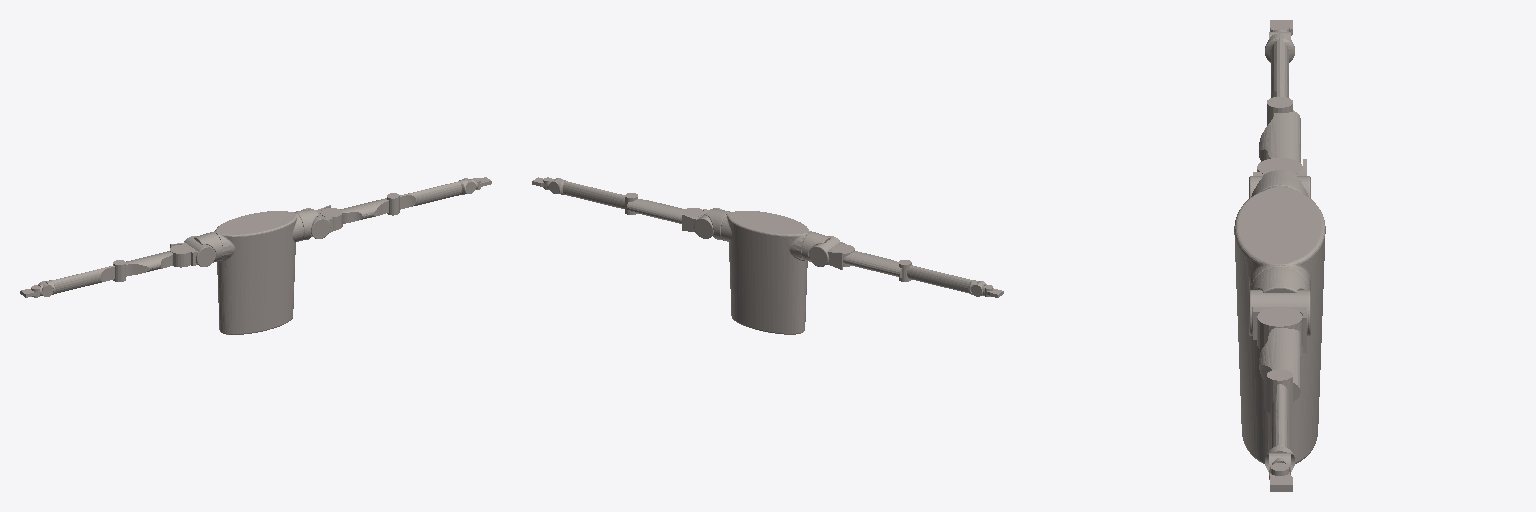
URDF robot description (lita_converted):
<!--This file is generated from solidworks via SW2URDF plugin and is later modified.
This file can be directly used for gazebo.-->


<robot name="lita_converted" xmlns:xacro="http://www.ros.org/wiki/xacro">

  <!--fix the upper_body_link-->
  <link name="world"/>

  <joint name="fixed" type="fixed">
    <parent link="world"/>
    <child link="upper_body_link"/>
  </joint>

  <!--This is the robot describtion-->
  <link name="upper_body_link">
    <inertial>
      <origin
        xyz="-4.3975E-06 -1.1609E-08 0.15913"
        rpy="0 0 0" />
      <mass
        value="26.766" />
      <inertia
        ixx="10"
        ixy="10"
        ixz="10"
        iyy="10"
        iyz="10"
        izz="10" />
    </inertial>
    <visual>
      <origin
        xyz="0 0 0"
        rpy="0 0 0" />
      <geometry>
        <mesh
          filename="package://lita_converted/meshes/upper_body_link.STL" />
      </geometry>
      <material
        name="">
        <color
          rgba="0.68627 0.65882 0.63922 1" />
      </material>
    </visual>
    <collision>
      <origin
        xyz="0 0 0"
        rpy="0 0 0" />
      <geometry>
        <mesh
          filename="package://lita_converted/meshes/upper_body_link.STL" />
      </geometry>
    </collision>
  </link>
  <link
    name="l_shoulder_roll_link">
    <inertial>
      <origin
        xyz="0.0033683 -7.6367E-09 -0.015946"
        rpy="0 0 0" />
      <mass
        value="0.63417" />
      <inertia
        ixx="0.000315"
        ixy="0"
        ixz="-5.2E-05"
        iyy="0.000373"
        iyz="0"
        izz="0.000525" />
    </inertial>
    <visual>
      <origin
        xyz="0 0 0"
        rpy="0 0 0" />
      <geometry>
        <mesh
          filename="package://lita_converted/meshes/l_shoulder_roll_link.STL" />
      </geometry>
      <material
        name="">
        <color
          rgba="0.68627 0.65882 0.63922 1" />
      </material>
    </visual>
    <collision>
      <origin
        xyz="0 0 0"
        rpy="0 0 0" />
      <geometry>
        <mesh
          filename="package://lita_converted/meshes/l_shoulder_roll_link.STL" />
      </geometry>
    </collision>
  </link>
  <joint
    name="l_shoulder_roll"
    type="continuous">
    <origin
      xyz="0.125 0 0.26"
      rpy="0 -1.5708 0" />
    <parent
      link="upper_body_link" />
    <child
      link="l_shoulder_roll_link" />
    <axis
      xyz="0 0 -1" />
    <limit
      effort="50000"
      velocity="500" />
    <calibration
      rising="1" />
    <dynamics
      damping="1"
      friction="0.1" />
    <safety_controller
      k_velocity="1" />
  </joint>
  <link
    name="l_shoulder_pitch_link">
    <inertial>
      <origin
        xyz="0.0032993 5.9585E-10 -0.00098089"
        rpy="0 0 0" />
      <mass
        value="1.0724" />
      <inertia
        ixx="0.000841"
        ixy="0"
        ixz="-5.4E-05"
        iyy="0.000973"
        iyz="0"
        izz="0.000606" />
    </inertial>
    <visual>
      <origin
        xyz="0 0 0"
        rpy="0 0 0" />
      <geometry>
        <mesh
          filename="package://lita_converted/meshes/l_shoulder_pitch_link.STL" />
      </geometry>
      <material
        name="">
        <color
          rgba="0.68627 0.65882 0.63922 1" />
      </material>
    </visual>
    <collision>
      <origin
        xyz="0 0 0"
        rpy="0 0 0" />
      <geometry>
        <mesh
          filename="package://lita_converted/meshes/l_shoulder_pitch_link.STL" />
      </geometry>
    </collision>
  </link>
  <joint
    name="l_shoulder_pitch"
    type="revolute">
    <origin
      xyz="-0.0037133 0 -0.052049"
      rpy="1.5708 1.5708 0" />
    <parent
      link="l_shoulder_roll_link" />
    <child
      link="l_shoulder_pitch_link" />
    <axis
      xyz="0 0 -1" />
    <limit
      lower="-0.6981"
      upper="1.7104"
      effort="50000"
      velocity="500" />
    <calibration
      rising="1" />
    <dynamics
      damping="0.1"
      friction="0.1" />
    <safety_controller
      soft_upper="1.7"
      soft_lower="-0.69"
      k_position="1"
      k_velocity="1" />
  </joint>
  <link
    name="l_shoulder_yaw_link">
    <inertial>
      <origin
        xyz="0.065121 -0.0020967 1.7569E-07"
        rpy="0 0 0" />
      <mass
        value="1.3826" />
      <inertia
        ixx="0.000398"
        ixy="-0.000132"
        ixz="0"
        iyy="0.005026"
        iyz="0"
        izz="0.005143" />
    </inertial>
    <visual>
      <origin
        xyz="0 0 0"
        rpy="0 0 0" />
      <geometry>
        <mesh
          filename="package://lita_converted/meshes/l_shoulder_yaw_link.STL" />
      </geometry>
      <material
        name="">
        <color
          rgba="0.68627 0.65882 0.63922 1" />
      </material>
    </visual>
    <collision>
      <origin
        xyz="0 0 0"
        rpy="0 0 0" />
      <geometry>
        <mesh
          filename="package://lita_converted/meshes/l_shoulder_yaw_link.STL" />
      </geometry>
    </collision>
  </link>
  <joint
    name="l_shoulder_yaw"
    type="revolute">
    <origin
      xyz="0.055 0 0"
      rpy="1.5708 -4.1633E-17 -2.6021E-18" />
    <parent
      link="l_shoulder_pitch_link" />
    <child
      link="l_shoulder_yaw_link" />
    <axis
      xyz="0 0 1" />
    <limit
      lower="-0.1396"
      upper="1.6231"
      effort="50000"
      velocity="500" />
    <calibration
      rising="1" />
    <dynamics
      damping="0.1"
      friction="0.1" />
    <safety_controller
      soft_upper="1.61"
      soft_lower="-0.13"
      k_position="1"
      k_velocity="1" />
  </joint>
  <link
    name="l_elbow_link">
    <inertial>
      <origin
        xyz="0.088184 -0.0003499 -1.9687E-07"
        rpy="0 0 0" />
      <mass
        value="0.81599" />
      <inertia
        ixx="0.000143"
        ixy="1.5E-05"
        ixz="0"
        iyy="0.004114"
        iyz="0"
        izz="0.004046" />
    </inertial>
    <visual>
      <origin
        xyz="0 0 0"
        rpy="0 0 0" />
      <geometry>
        <mesh
          filename="package://lita_converted/meshes/l_elbow_link.STL" />
      </geometry>
      <material
        name="">
        <color
          rgba="0.68627 0.65882 0.63922 1" />
      </material>
    </visual>
    <collision>
      <origin
        xyz="0 0 0"
        rpy="0 0 0" />
      <geometry>
        <mesh
          filename="package://lita_converted/meshes/l_elbow_link.STL" />
      </geometry>
    </collision>
  </link>
  <joint
    name="l_elbow"
    type="revolute">
    <origin
      xyz="0.1903 0 0"
      rpy="-4.2858E-16 9.6277E-17 -4.1263E-32" />
    <parent
      link="l_shoulder_yaw_link" />
    <child
      link="l_elbow_link" />
    <axis
      xyz="0 0 1" />
    <limit
      lower="-0.7853"
      upper="2.4085"
      effort="50000"
      velocity="500" />
    <calibration
      rising="1" />
    <dynamics
      damping="0.1"
      friction="0.1" />
    <safety_controller
      soft_upper="2.4"
      soft_lower="-0.78"
      k_position="1"
      k_velocity="1" />
  </joint>
  <link
    name="l_wrist_roll_link">
    <inertial>
      <origin
        xyz="-1.4822E-09 1.5222E-08 -0.0042713"
        rpy="0 0 0" />
      <mass
        value="0.033212" />
      <inertia
        ixx="3E-06"
        ixy="0"
        ixz="0"
        iyy="6E-06"
        iyz="0"
        izz="8E-06" />
    </inertial>
    <visual>
      <origin
        xyz="0 0 0"
        rpy="0 0 0" />
      <geometry>
        <mesh
          filename="package://lita_converted/meshes/l_wrist_roll_link.STL" />
      </geometry>
      <material
        name="">
        <color
          rgba="0.68627 0.65882 0.63922 1" />
      </material>
    </visual>
    <collision>
      <origin
        xyz="0 0 0"
        rpy="0 0 0" />
      <geometry>
        <mesh
          filename="package://lita_converted/meshes/l_wrist_roll_link.STL" />
      </geometry>
    </collision>
  </link>
  <joint
    name="l_wrist_roll"
    type="continuous">
    <origin
      xyz="0.21 0 0"
      rpy="3.1416 1.5708 0" />
    <parent
      link="l_elbow_link" />
    <child
      link="l_wrist_roll_link" />
    <axis
      xyz="0 0 -1" />
    <limit
      effort="50000"
      velocity="500" />
    <calibration
      rising="1" />
    <dynamics
      damping="0.1"
      friction="0.1" />
    <safety_controller
      k_velocity="1" />
  </joint>
  <link
    name="l_wrist_pitch_link">
    <inertial>
      <origin
        xyz="0.0009785 -2.8101E-08 -1.4985E-08"
        rpy="0 0 0" />
      <mass
        value="0.13385" />
      <inertia
        ixx="2.1E-05"
        ixy="0"
        ixz="0"
        iyy="2.2E-05"
        iyz="0"
        izz="2.2E-05" />
    </inertial>
    <visual>
      <origin
        xyz="0 0 0"
        rpy="0 0 0" />
      <geometry>
        <mesh
          filename="package://lita_converted/meshes/l_wrist_pitch_link.STL" />
      </geometry>
      <material
        name="">
        <color
          rgba="0.68627 0.65882 0.63922 1" />
      </material>
    </visual>
    <collision>
      <origin
        xyz="0 0 0"
        rpy="0 0 0" />
      <geometry>
        <mesh
          filename="package://lita_converted/meshes/l_wrist_pitch_link.STL" />
      </geometry>
    </collision>
  </link>
  <joint
    name="l_wrist_pitch"
    type="revolute">
    <origin
      xyz="0 0 -0.02"
      rpy="1.5708 1.5708 0" />
    <parent
      link="l_wrist_roll_link" />
    <child
      link="l_wrist_pitch_link" />
    <axis
      xyz="0 0 -1" />
    <limit
      lower="-0.6981"
      upper="0.6981"
      effort="50000"
      velocity="500" />
    <calibration
      rising="1" />
    <dynamics
      damping="0.1"
      friction="0.1" />
    <safety_controller
      soft_upper="0.69"
      soft_lower="-0.69"
      k_position="1"
      k_velocity="1" />
  </joint>
  <link
    name="l_wrist_yaw_link">
    <inertial>
      <origin
        xyz="0.0096828 -0.0007914 2.2204E-16"
        rpy="0 0 0" />
      <mass
        value="0.089949" />
      <inertia
        ixx="8E-06"
        ixy="-1E-06"
        ixz="0"
        iyy="2E-05"
        iyz="0"
        izz="2.2E-05" />
    </inertial>
    <visual>
      <origin
        xyz="0 0 0"
        rpy="0 0 0" />
      <geometry>
        <mesh
          filename="package://lita_converted/meshes/l_wrist_yaw_link.STL" />
      </geometry>
      <material
        name="">
        <color
          rgba="0.68627 0.65882 0.63922 1" />
      </material>
    </visual>
    <collision>
      <origin
        xyz="0 0 0"
        rpy="0 0 0" />
      <geometry>
        <mesh
          filename="package://lita_converted/meshes/l_wrist_yaw_link.STL" />
      </geometry>
    </collision>
  </link>
  <joint
    name="l_wrist_yaw"
    type="revolute">
    <origin
      xyz="0.028 0 0"
      rpy="1.5708 -1.0276E-16 -6.9285E-31" />
    <parent
      link="l_wrist_pitch_link" />
    <child
      link="l_wrist_yaw_link" />
    <axis
      xyz="0 0 1" />
    <limit
      lower="-0.3141"
      upper="0.3141"
      effort="50000"
      velocity="500" />
    <calibration
      rising="1" />
    <dynamics
      damping="0.1"
      friction="0.1" />
    <safety_controller
      soft_upper="0.31"
      soft_lower="-0.31"
      k_position="1"
      k_velocity="1" />
  </joint>
  <link
    name="r_shoulder_roll_link">
    <inertial>
      <origin
        xyz="0.0033683 7.6367E-09 0.015946"
        rpy="0 0 0" />
      <mass
        value="0.63417" />
      <inertia
        ixx="0.000315"
        ixy="0"
        ixz="5.2E-05"
        iyy="0.000373"
        iyz="0"
        izz="0.000525" />
    </inertial>
    <visual>
      <origin
        xyz="0 0 0"
        rpy="0 0 0" />
      <geometry>
        <mesh
          filename="package://lita_converted/meshes/r_shoulder_roll_link.STL" />
      </geometry>
      <material
        name="">
        <color
          rgba="0.68627 0.65882 0.63922 1" />
      </material>
    </visual>
    <collision>
      <origin
        xyz="0 0 0"
        rpy="0 0 0" />
      <geometry>
        <mesh
          filename="package://lita_converted/meshes/r_shoulder_roll_link.STL" />
      </geometry>
    </collision>
  </link>
  <joint
    name="r_shoulder_roll"
    type="continuous">
    <origin
      xyz="-0.125 0 0.26"
      rpy="0 -1.5708 0" />
    <parent
      link="upper_body_link" />
    <child
      link="r_shoulder_roll_link" />
    <axis
      xyz="0 0 -1" />
    <limit
      effort="50000"
      velocity="500" />
    <calibration
      rising="1" />
    <dynamics
      damping="0.1"
      friction="0.1" />
    <safety_controller
      k_velocity="1" />
  </joint>
  <link
    name="r_shoulder_pitch_link">
    <inertial>
      <origin
        xyz="0.0032993 -5.9585E-10 0.00098089"
        rpy="0 0 0" />
      <mass
        value="1.0724" />
      <inertia
        ixx="0.000841"
        ixy="0"
        ixz="5.4E-05"
        iyy="0.000973"
        iyz="0"
        izz="0.000606" />
    </inertial>
    <visual>
      <origin
        xyz="0 0 0"
        rpy="0 0 0" />
      <geometry>
        <mesh
          filename="package://lita_converted/meshes/r_shoulder_pitch_link.STL" />
      </geometry>
      <material
        name="">
        <color
          rgba="0.68627 0.65882 0.63922 1" />
      </material>
    </visual>
    <collision>
      <origin
        xyz="0 0 0"
        rpy="0 0 0" />
      <geometry>
        <mesh
          filename="package://lita_converted/meshes/r_shoulder_pitch_link.STL" />
      </geometry>
    </collision>
  </link>
  <joint
    name="r_shoulder_pitch"
    type="revolute">
    <origin
      xyz="-0.0037133 0 0.052049"
      rpy="-1.5708 -1.5708 0" />
    <parent
      link="r_shoulder_roll_link" />
    <child
      link="r_shoulder_pitch_link" />
    <axis
      xyz="0 0 -1" />
    <limit
      lower="-0.6981"
      upper="1.7104"
      effort="50000"
      velocity="500" />
    <calibration
      rising="1" />
    <dynamics
      damping="0.1"
      friction="0.1" />
    <safety_controller
      soft_upper="1.7"
      soft_lower="-0.69"
      k_position="1"
      k_velocity="1" />
  </joint>
  <link
    name="r_shoulder_yaw_link">
    <inertial>
      <origin
        xyz="0.065121 -0.0020967 1.7569E-07"
        rpy="0 0 0" />
      <mass
        value="1.3826" />
      <inertia
        ixx="0.000398"
        ixy="-0.000132"
        ixz="0"
        iyy="0.005026"
        iyz="0"
        izz="0.005143" />
    </inertial>
    <visual>
      <origin
        xyz="0 0 0"
        rpy="0 0 0" />
      <geometry>
        <mesh
          filename="package://lita_converted/meshes/r_shoulder_yaw_link.STL" />
      </geometry>
      <material
        name="">
        <color
          rgba="0.68627 0.65882 0.63922 1" />
      </material>
    </visual>
    <collision>
      <origin
        xyz="0 0 0"
        rpy="0 0 0" />
      <geometry>
        <mesh
          filename="package://lita_converted/meshes/r_shoulder_yaw_link.STL" />
      </geometry>
    </collision>
  </link>
  <joint
    name="r_shoulder_yaw"
    type="revolute">
    <origin
      xyz="0.055 0 0"
      rpy="-1.5708 3.2819E-17 -4.3368E-18" />
    <parent
      link="r_shoulder_pitch_link" />
    <child
      link="r_shoulder_yaw_link" />
    <axis
      xyz="0 0 1" />
    <limit
      lower="-0.1396"
      upper="1.6231"
      effort="50000"
      velocity="500" />
    <calibration
      rising="1" />
    <dynamics
      damping="0.1"
      friction="0.1" />
    <safety_controller
      soft_upper="1.61"
      soft_lower="-0.13"
      k_velocity="0" />
  </joint>
  <link
    name="r_elbow_link">
    <inertial>
      <origin
        xyz="0.088184 -0.0003499 -1.9687E-07"
        rpy="0 0 0" />
      <mass
        value="0.81599" />
      <inertia
        ixx="0.000143"
        ixy="1.5E-05"
        ixz="0"
        iyy="0.004114"
        iyz="0"
        izz="0.004046" />
    </inertial>
    <visual>
      <origin
        xyz="0 0 0"
        rpy="0 0 0" />
      <geometry>
        <mesh
          filename="package://lita_converted/meshes/r_elbow_link.STL" />
      </geometry>
      <material
        name="">
        <color
          rgba="0.68627 0.65882 0.63922 1" />
      </material>
    </visual>
    <collision>
      <origin
        xyz="0 0 0"
        rpy="0 0 0" />
      <geometry>
        <mesh
          filename="package://lita_converted/meshes/r_elbow_link.STL" />
      </geometry>
    </collision>
  </link>
  <joint
    name="r_elbow"
    type="revolute">
    <origin
      xyz="0.1903 0 0"
      rpy="1.2818E-16 -4.3368E-18 -2.8339E-19" />
    <parent
      link="r_shoulder_yaw_link" />
    <child
      link="r_elbow_link" />
    <axis
      xyz="0 0 1" />
    <limit
      lower="-0.7853"
      upper="2.4085"
      effort="50000"
      velocity="500" />
    <calibration
      rising="1" />
    <dynamics
      damping="0.1"
      friction="0.1" />
    <safety_controller
      soft_upper="2.4"
      soft_lower="-0.78"
      k_position="1"
      k_velocity="1" />
  </joint>
  <link
    name="r_wrist_roll_link">
    <inertial>
      <origin
        xyz="-1.4822E-09 -1.5222E-08 0.0042713"
        rpy="0 0 0" />
      <mass
        value="0.033212" />
      <inertia
        ixx="3E-06"
        ixy="0"
        ixz="0"
        iyy="6E-06"
        iyz="0"
        izz="8E-06" />
    </inertial>
    <visual>
      <origin
        xyz="0 0 0"
        rpy="0 0 0" />
      <geometry>
        <mesh
          filename="package://lita_converted/meshes/r_wrist_roll_link.STL" />
      </geometry>
      <material
        name="">
        <color
          rgba="0.68627 0.65882 0.63922 1" />
      </material>
    </visual>
    <collision>
      <origin
        xyz="0 0 0"
        rpy="0 0 0" />
      <geometry>
        <mesh
          filename="package://lita_converted/meshes/r_wrist_roll_link.STL" />
      </geometry>
    </collision>
  </link>
  <joint
    name="r_wrist_roll"
    type="continuous">
    <origin
      xyz="0.21 0 0"
      rpy="0 1.5708 0" />
    <parent
      link="r_elbow_link" />
    <child
      link="r_wrist_roll_link" />
    <axis
      xyz="0 0 -1" />
    <limit
      effort="50000"
      velocity="500" />
    <calibration
      rising="1" />
    <dynamics
      damping="0.1"
      friction="0.1" />
    <safety_controller
      k_velocity="1" />
  </joint>
  <link
    name="r_wrist_pitch_link">
    <inertial>
      <origin
        xyz="0.0009785 -2.8101E-08 -1.4985E-08"
        rpy="0 0 0" />
      <mass
        value="0.13385" />
      <inertia
        ixx="2.1E-05"
        ixy="0"
        ixz="0"
        iyy="2.2E-05"
        iyz="0"
        izz="2.2E-05" />
    </inertial>
    <visual>
      <origin
        xyz="0 0 0"
        rpy="0 0 0" />
      <geometry>
        <mesh
          filename="package://lita_converted/meshes/r_wrist_pitch_link.STL" />
      </geometry>
      <material
        name="">
        <color
          rgba="0.68627 0.65882 0.63922 1" />
      </material>
    </visual>
    <collision>
      <origin
        xyz="0 0 0"
        rpy="0 0 0" />
      <geometry>
        <mesh
          filename="package://lita_converted/meshes/r_wrist_pitch_link.STL" />
      </geometry>
    </collision>
  </link>
  <joint
    name="r_wrist_pitch"
    type="revolute">
    <origin
      xyz="0 0 0.02"
      rpy="1.5708 -1.5708 0" />
    <parent
      link="r_wrist_roll_link" />
    <child
      link="r_wrist_pitch_link" />
    <axis
      xyz="0 0 -1" />
    <limit
      lower="-0.6981"
      upper="0.6981"
      effort="50000"
      velocity="500" />
    <calibration
      rising="1" />
    <dynamics
      damping="0.1"
      friction="0.1" />
    <safety_controller
      soft_upper="0.69"
      soft_lower="-0.69"
      k_position="1"
      k_velocity="1" />
  </joint>
  <link
    name="r_wrist_yaw_link">
    <inertial>
      <origin
        xyz="0.0096828 -0.0007914 0"
        rpy="0 0 0" />
      <mass
        value="0.089949" />
      <inertia
        ixx="8E-06"
        ixy="-1E-06"
        ixz="0"
        iyy="2E-05"
        iyz="0"
        izz="2.2E-05" />
    </inertial>
    <visual>
      <origin
        xyz="0 0 0"
        rpy="0 0 0" />
      <geometry>
        <mesh
          filename="package://lita_converted/meshes/r_wrist_yaw_link.STL" />
      </geometry>
      <material
        name="">
        <color
          rgba="0.68627 0.65882 0.63922 1" />
      </material>
    </visual>
    <collision>
      <origin
        xyz="0 0 0"
        rpy="0 0 0" />
      <geometry>
        <mesh
          filename="package://lita_converted/meshes/r_wrist_yaw_link.STL" />
      </geometry>
    </collision>
  </link>
  <joint
    name="r_wrist_yaw"
    type="revolute">
    <origin
      xyz="0.028 0 0"
      rpy="-1.5708 3.3944E-20 8.6736E-18" />
    <parent
      link="r_wrist_pitch_link" />
    <child
      link="r_wrist_yaw_link" />
    <axis
      xyz="0 0 1" />
    <limit
      lower="-0.3141"
      upper="0.3141"
      effort="50000"
      velocity="500" />
    <calibration
      rising="1" />
    <dynamics
      damping="0.1"
      friction="0.1" />
    <safety_controller
      soft_upper="0.31"
      soft_lower="-0.31"
      k_position="1"
      k_velocity="1" />
  </joint>
</robot>

--- Render facts (derived) ---
3 views of the same robot in one strip: view 1: azimuth 30°, elevation 25°; view 2: azimuth 150°, elevation 25°; view 3: azimuth 270°, elevation 25° (orthographic).
Robot: lita_converted — 16 links, 15 joints (10 revolute, 4 continuous, 1 fixed); root link world; default pose: every joint at zero.
Visible links, largest first — view 1: upper_body_link, l_elbow_link, r_shoulder_yaw_link, r_elbow_link, l_shoulder_yaw_link, r_shoulder_pitch_link; view 2: upper_body_link, r_elbow_link, l_elbow_link, r_shoulder_yaw_link, l_shoulder_yaw_link, r_shoulder_pitch_link, l_shoulder_pitch_link; view 3: upper_body_link, l_shoulder_yaw_link, r_shoulder_yaw_link, l_elbow_link, r_elbow_link, l_shoulder_pitch_link, l_shoulder_roll_link, r_shoulder_roll_link, l_wrist_yaw_link.
Link boxes in pixels (left/top/right/bottom): upper_body_link: left=214, top=211, right=303, bottom=334; l_elbow_link: left=387, top=180, right=464, bottom=215; r_shoulder_yaw_link: left=126, top=245, right=191, bottom=276; r_elbow_link: left=51, top=260, right=125, bottom=293; l_shoulder_yaw_link: left=320, top=198, right=388, bottom=230; r_shoulder_pitch_link: left=170, top=236, right=215, bottom=266; upper_body_link: left=721, top=211, right=811, bottom=334; r_elbow_link: left=899, top=260, right=972, bottom=293; l_elbow_link: left=560, top=180, right=637, bottom=214; r_shoulder_yaw_link: left=832, top=244, right=901, bottom=277; l_shoulder_yaw_link: left=627, top=199, right=703, bottom=223; r_shoulder_pitch_link: left=809, top=236, right=844, bottom=269; l_shoulder_pitch_link: left=682, top=208, right=721, bottom=238; upper_body_link: left=1234, top=185, right=1325, bottom=463; l_shoulder_yaw_link: left=1257, top=307, right=1302, bottom=401; r_shoulder_yaw_link: left=1257, top=110, right=1302, bottom=173; l_elbow_link: left=1267, top=369, right=1292, bottom=448; r_elbow_link: left=1265, top=38, right=1294, bottom=125; l_shoulder_pitch_link: left=1249, top=290, right=1310, bottom=352; l_shoulder_roll_link: left=1250, top=267, right=1309, bottom=292; r_shoulder_roll_link: left=1251, top=170, right=1308, bottom=196; l_wrist_yaw_link: left=1270, top=463, right=1292, bottom=491.
Bounding box of the posed robot: 1.44 × 0.1196 × 0.3 m (x, y, z).
15 mesh visuals loaded from 15 distinct referenced files (15 binary STL).